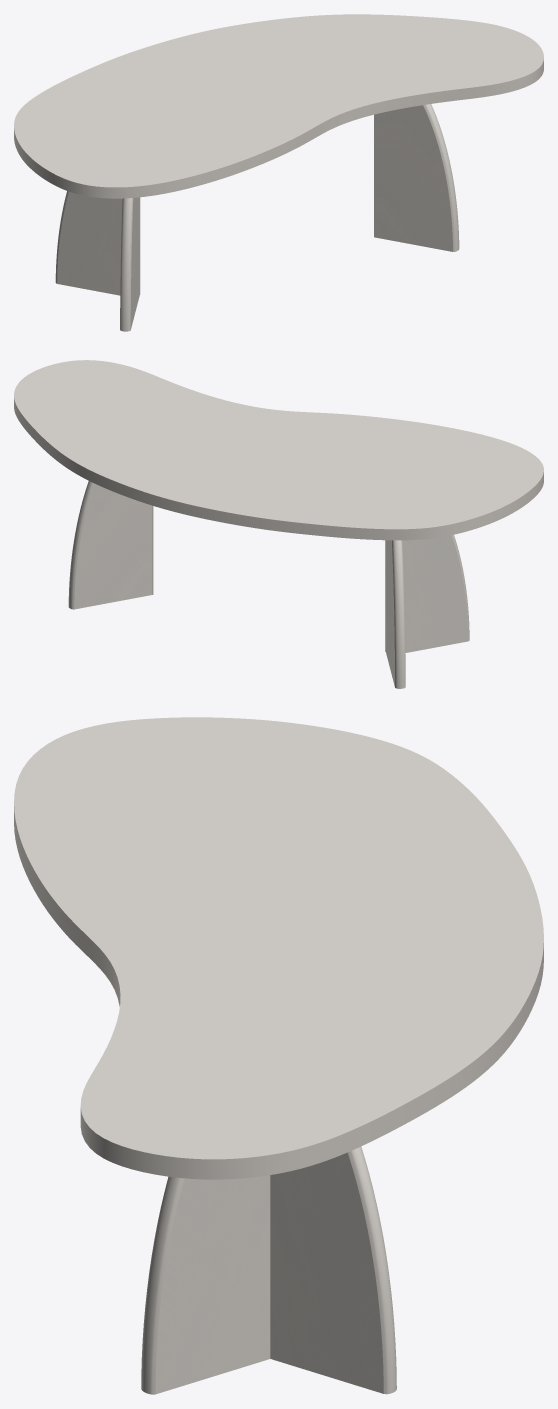
The model's file is pearlwhite_leaf1_standard_newtable2.glb.
The picture shows the model from 3 angles, top to bottom: view 1: azimuth 30°, elevation 25°; view 2: azimuth 150°, elevation 25°; view 3: azimuth 270°, elevation 25°; orthographic projection. The views are drawn at different scales.
Visible parts, largest first — view 1: standard_leaf1, newtable2_singleright2, newtable2_singleleft1, newtable2_singleright1; view 2: standard_leaf1, newtable2_singleleft2, newtable2_singleright1, newtable2_singleleft1; view 3: standard_leaf1, newtable2_singleleft2, newtable2_singleright2.
Part boxes in pixels (x1=…): standard_leaf1: x1=14, y1=14, x2=543, y2=198; newtable2_singleright2: x1=374, y1=104, x2=459, y2=251; newtable2_singleleft1: x1=55, y1=191, x2=140, y2=295; newtable2_singleright1: x1=120, y1=197, x2=139, y2=331; standard_leaf1: x1=14, y1=360, x2=543, y2=540; newtable2_singleleft2: x1=68, y1=481, x2=152, y2=609; newtable2_singleright1: x1=385, y1=535, x2=469, y2=652; newtable2_singleleft1: x1=386, y1=540, x2=405, y2=688; standard_leaf1: x1=14, y1=717, x2=543, y2=1179; newtable2_singleleft2: x1=270, y1=1146, x2=396, y2=1394; newtable2_singleright2: x1=141, y1=1175, x2=270, y2=1394.
Bounding box in the file's own units: 7.5 × 2.5 × 3.8.
1 material, 1 textured.
